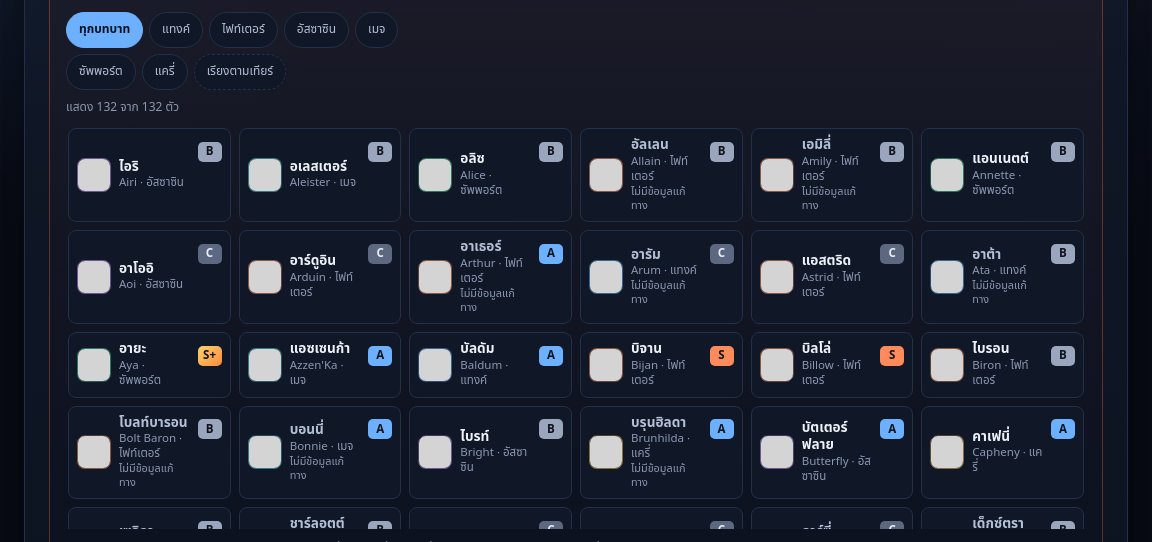
Test: App › แสดงแผงอ่านดราฟต์ศัตรู (คอมโบ) เมื่อเลือกศัตรูที่มีข้อมูล
(page scrolled)
Click the button "ไอริ Airi · อัสซาซิน B".
click(149, 175)  # box [68,128,231,222]
(page scrolled)
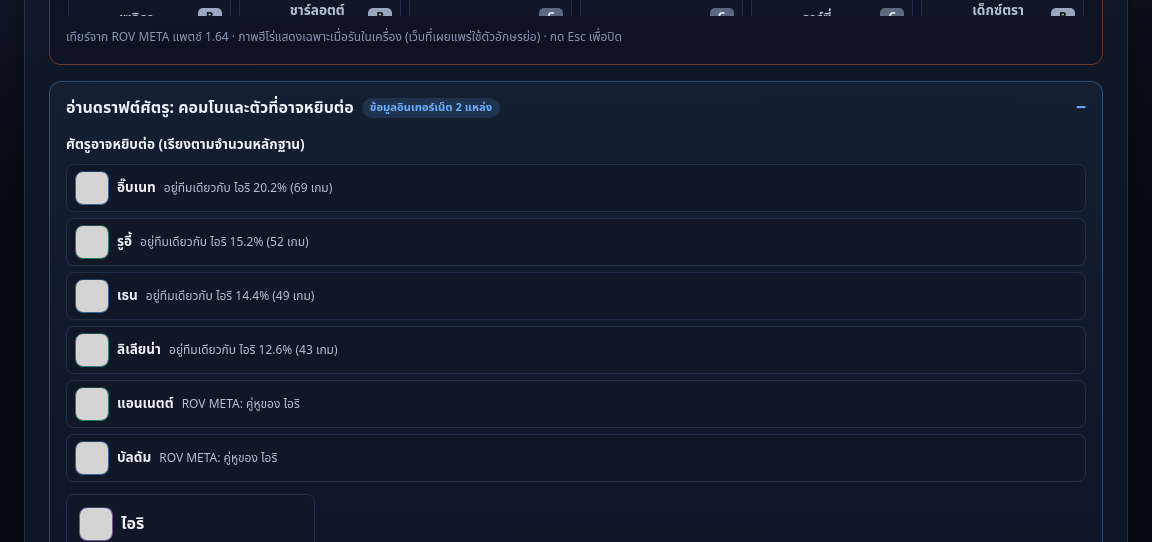
Result: the element with test id "enemy-read" shows "ROV META" at [182,394,300,412]
Result: the list item with test id "likely-" is shown at [66,164,1086,212]
